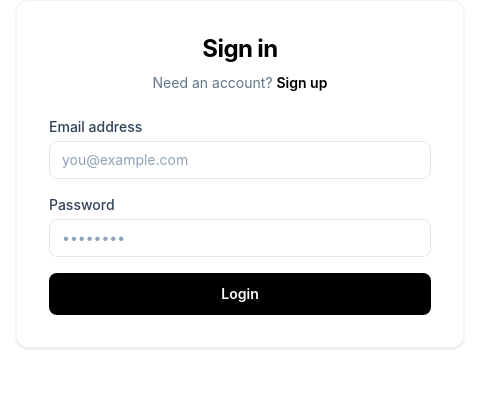
Test: LoginPage › shows validation errors when fields are empty and submitted
The image size is (481, 406).
Click the button "Login": (240, 294) [49,273,431,315]
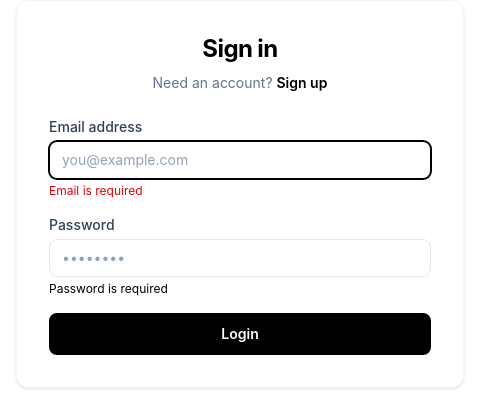
Check: the text "Email is required" is shown, box [49,183,143,198]
Check: the text "Password is required" is shown, box [49,281,168,296]
